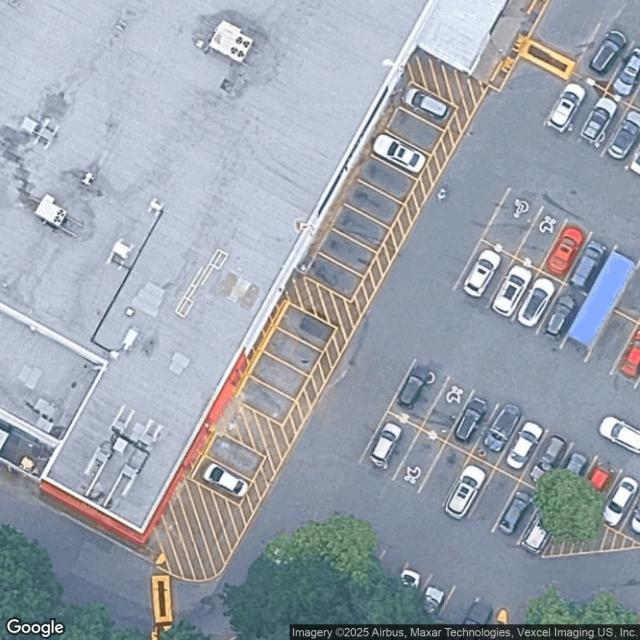car: (445, 465, 486, 519), (365, 420, 408, 471), (373, 134, 425, 174), (546, 225, 586, 277), (493, 265, 532, 316), (570, 241, 607, 292), (547, 83, 585, 132), (518, 277, 555, 327), (581, 97, 617, 147), (463, 250, 501, 297), (530, 435, 568, 482), (603, 476, 638, 527), (507, 423, 543, 470), (590, 30, 626, 74), (607, 110, 639, 159), (202, 463, 248, 497), (404, 88, 450, 121), (498, 490, 532, 534), (599, 416, 639, 453), (398, 364, 431, 408), (454, 398, 486, 441), (612, 47, 639, 96), (521, 512, 552, 553), (545, 296, 576, 336), (620, 325, 639, 378), (588, 460, 616, 495), (422, 584, 446, 614), (466, 599, 492, 625), (565, 451, 587, 476), (484, 433, 506, 456), (401, 567, 422, 589)
lot_boundary: (136, 0, 639, 639)
